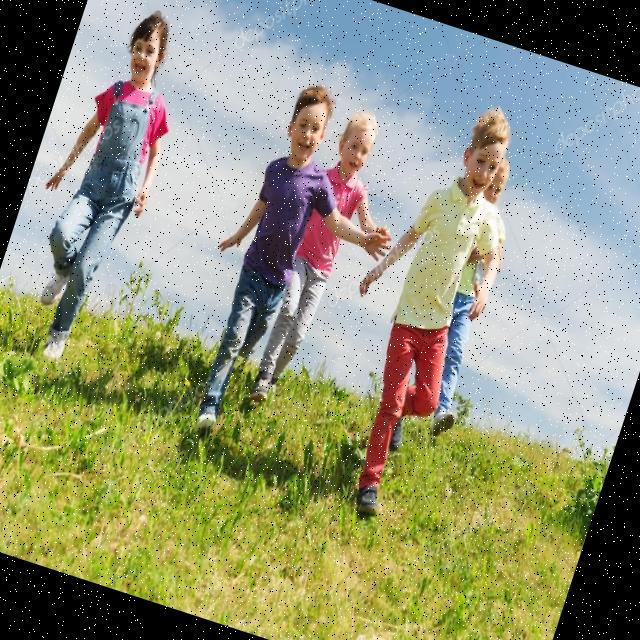Person: (292, 84, 545, 533), (160, 71, 431, 475), (0, 0, 203, 374), (248, 100, 427, 422)
